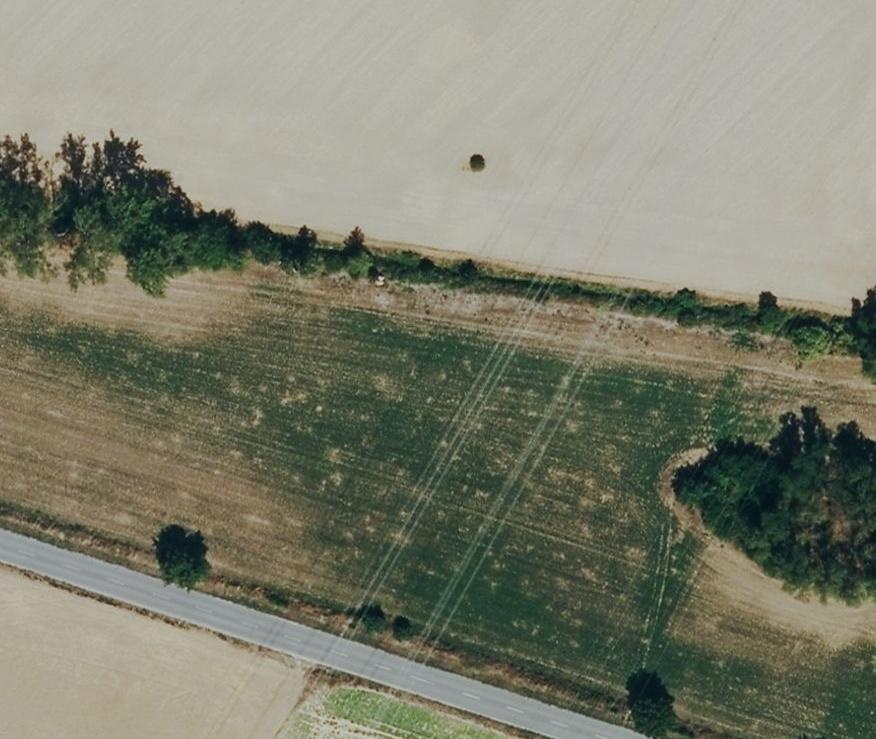field: (0, 3, 876, 737), (0, 568, 503, 737), (0, 567, 496, 737)
forest: (672, 407, 876, 600), (0, 180, 248, 295)
